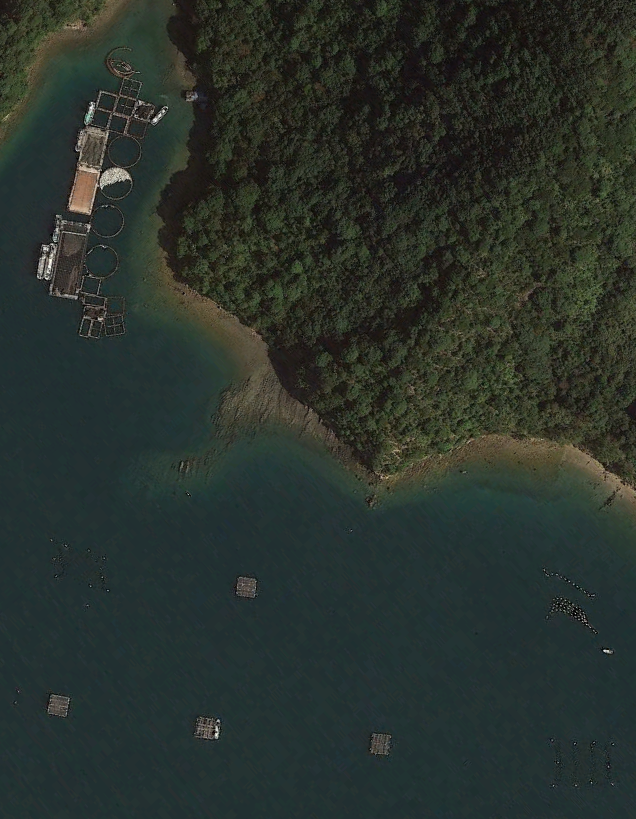circle: (83, 238, 122, 284), (87, 200, 127, 243), (106, 128, 145, 169), (94, 166, 137, 203)
ship: (32, 239, 49, 285), (82, 98, 99, 131), (153, 103, 172, 128), (45, 239, 56, 282), (73, 126, 89, 155), (51, 212, 65, 244)
square: (190, 711, 227, 746), (42, 688, 77, 721), (365, 728, 399, 757), (233, 572, 261, 600), (76, 313, 104, 341), (92, 87, 121, 114), (117, 73, 145, 100), (132, 95, 159, 123), (86, 107, 114, 131), (126, 114, 150, 142), (101, 313, 129, 337), (102, 294, 126, 320), (108, 109, 128, 138), (79, 272, 98, 299)
